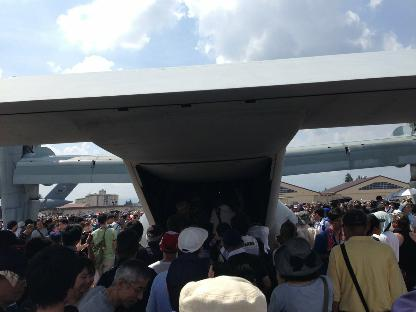Tornado: (0, 49, 416, 251)
